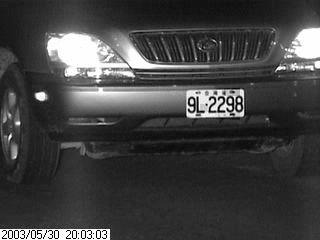plate: (184, 87, 246, 120)
